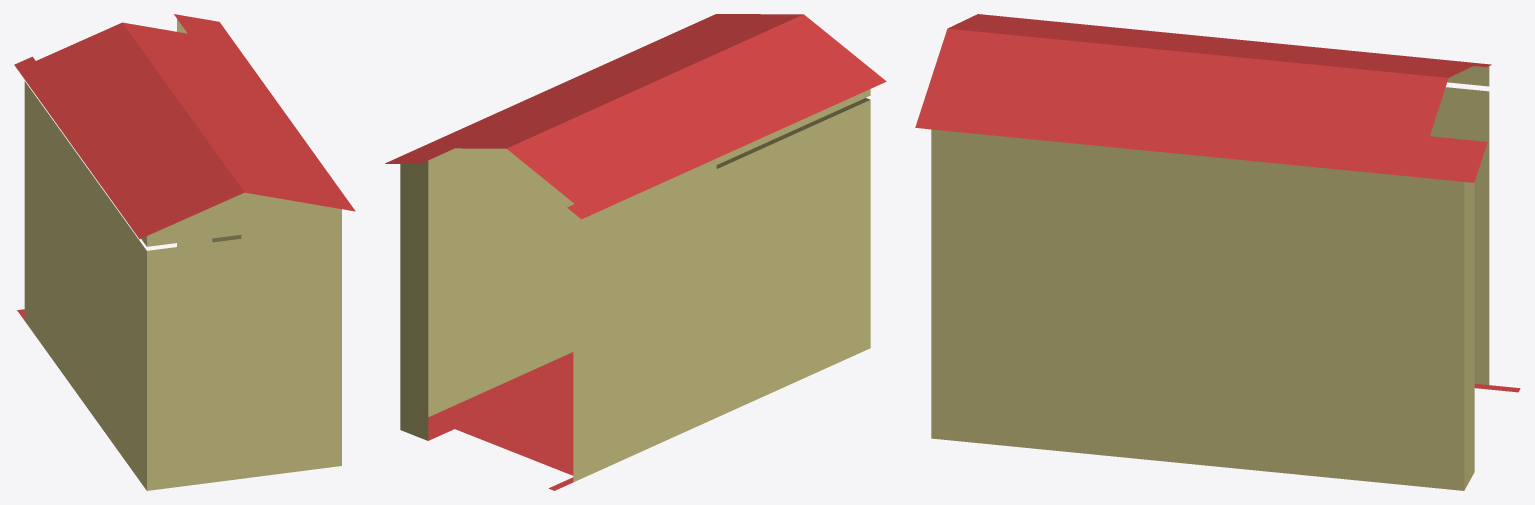
3 views of the same model, side by side, from view 1: azimuth 30°, elevation 25°; view 2: azimuth 150°, elevation 25°; view 3: azimuth 270°, elevation 25° (orthographic). The views are drawn at different scales.
Bounding box in the file's own units: 7.39 × 11.2 × 7.26.
